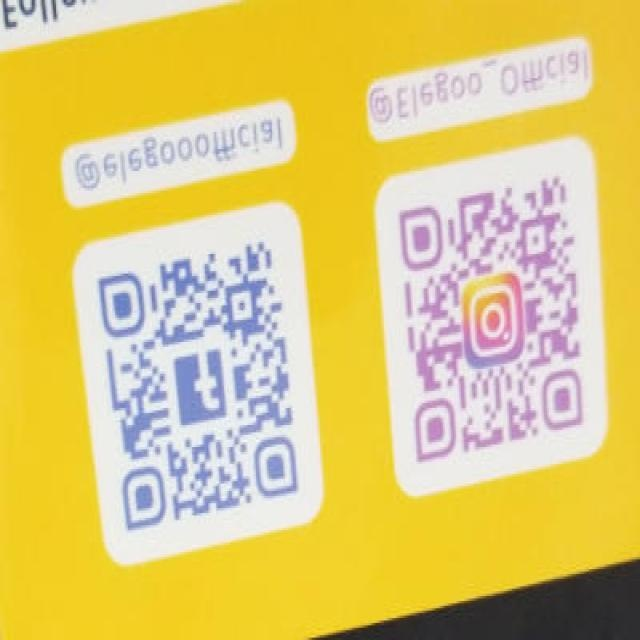qr-code: (80, 216, 308, 556), (380, 148, 596, 493)
